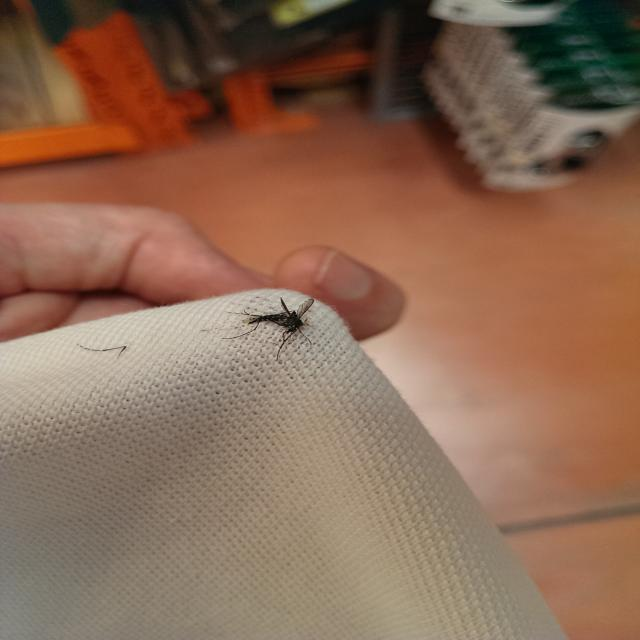albopictus: (219, 294, 320, 348)
